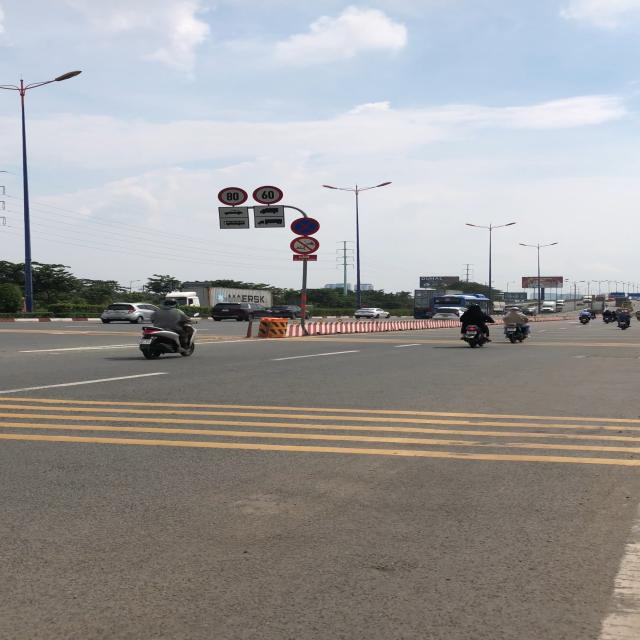Bien bao cam dung xe va do xe: (288, 215, 322, 237)
Bien bao toc do toi da cho phep: (251, 183, 287, 205), (216, 186, 249, 206)
